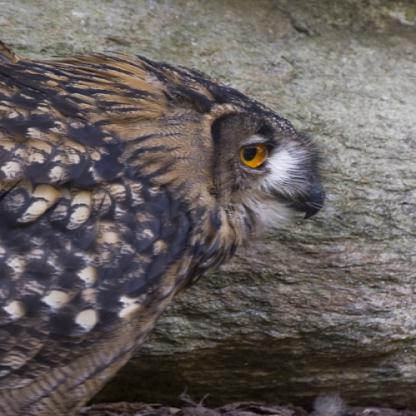bird: (0, 52, 324, 416)
